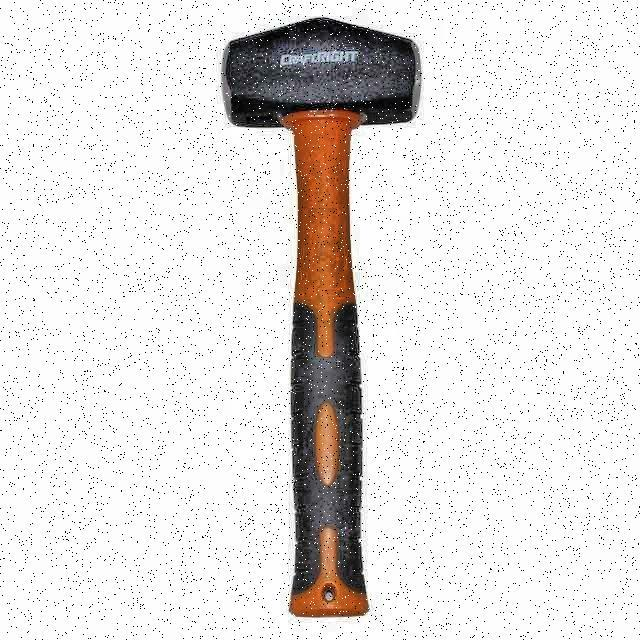hammer: (219, 15, 423, 617)
